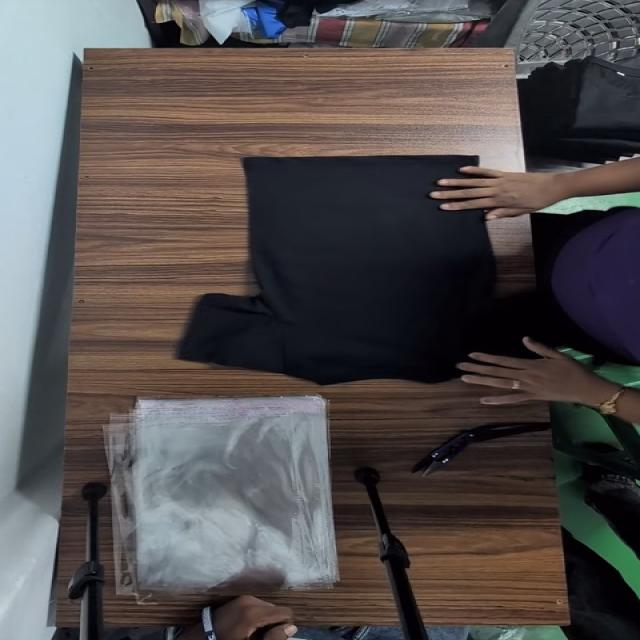new-garment: (180, 156, 543, 384)
